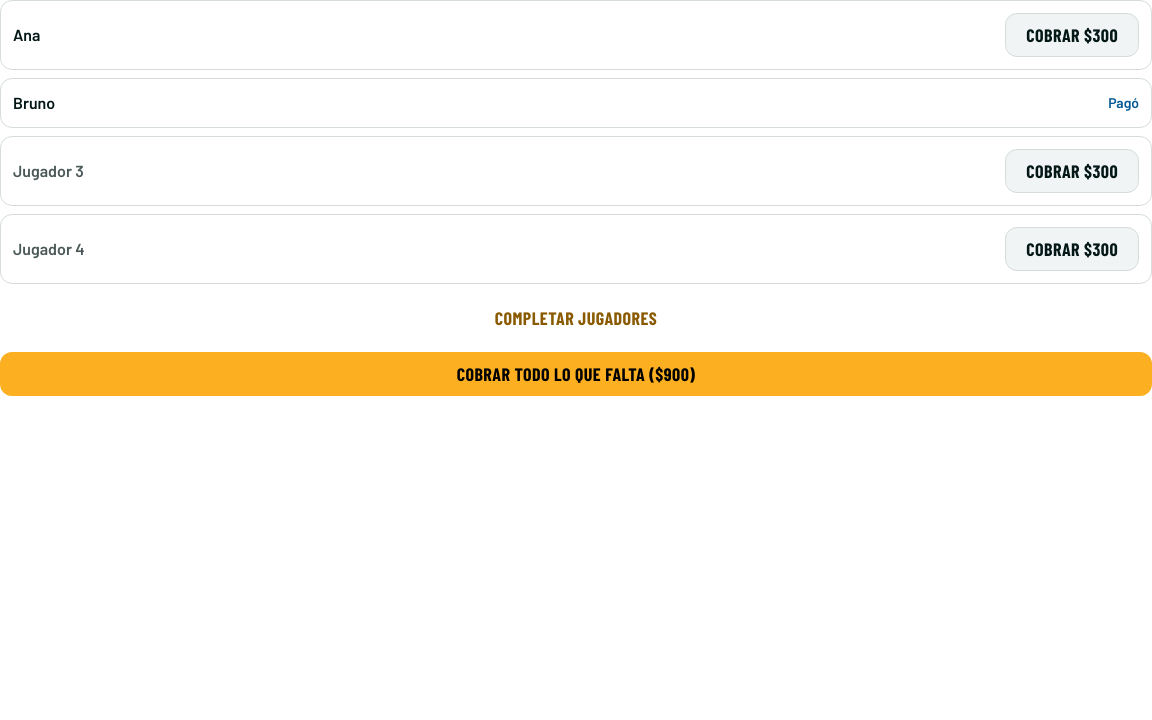
Test: BookingPlayers › leaves a player who paid as he is
Click the button "Completar jugadores" at (576, 318), box [0,296,1151,340]
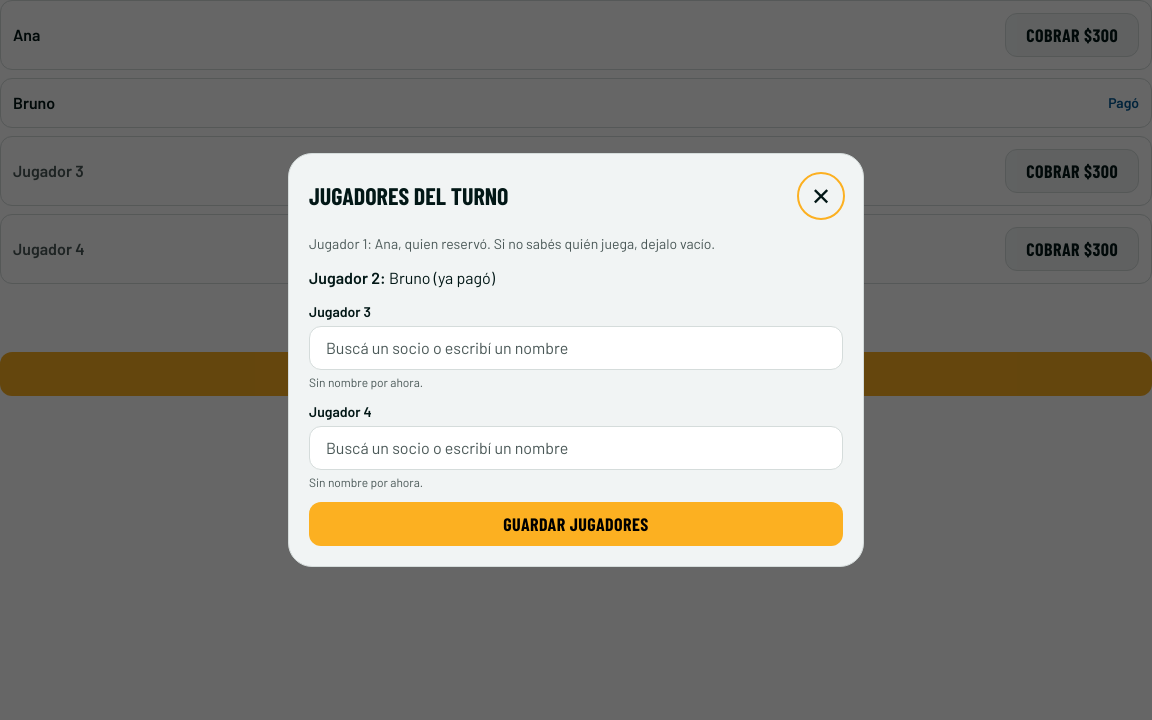
Now the dialog "Jugadores del turno" shows "Jugador 2: Bruno (ya pagó)", box [288,153,864,567]
